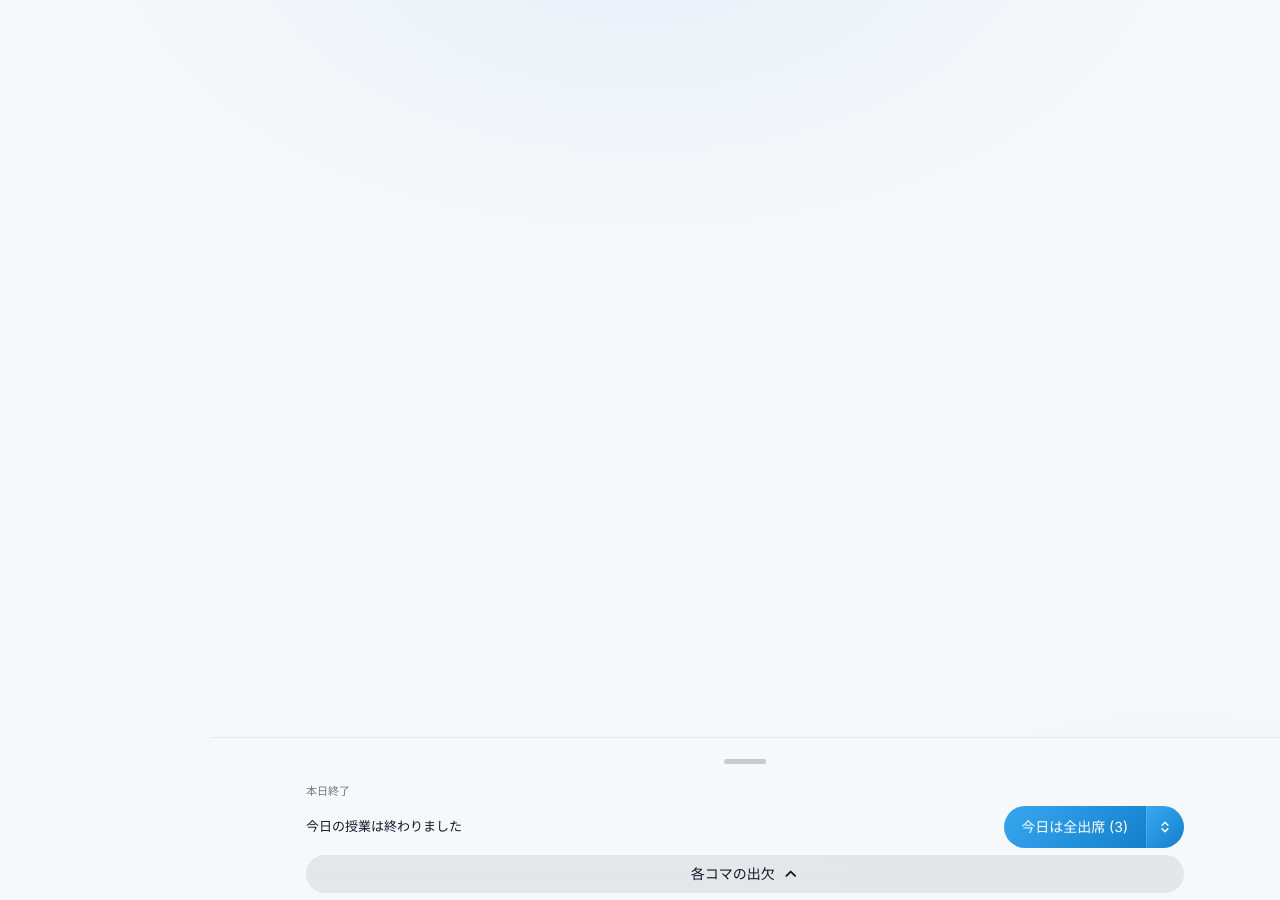
Test: MainAttendanceCTA bulk status menu › closes the menu on Escape
The width and height of the screenshot is (1280, 900).
Click the button named "一括記録のステータスを選ぶ": click(1165, 826) [1146,806,1184,848]
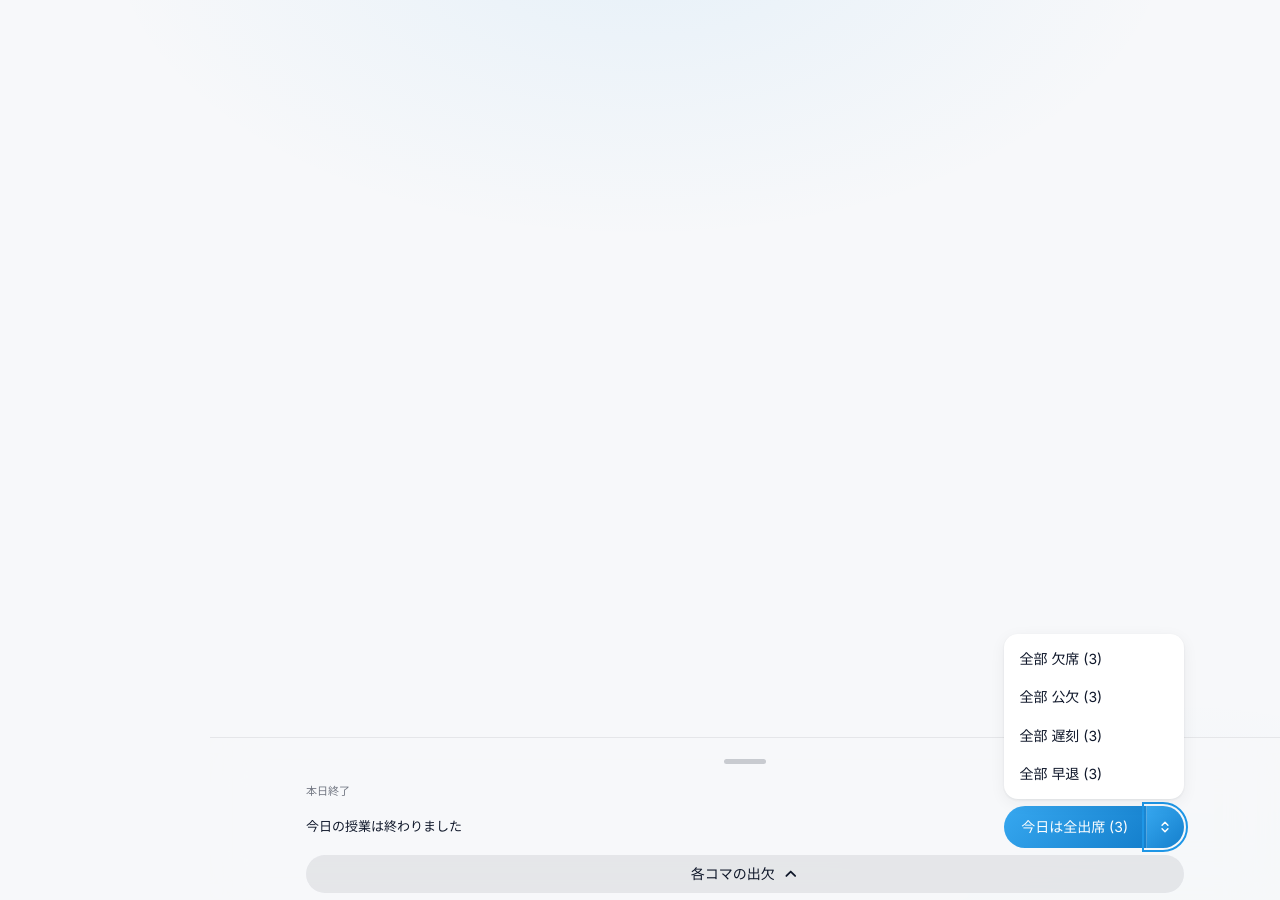
Press Escape
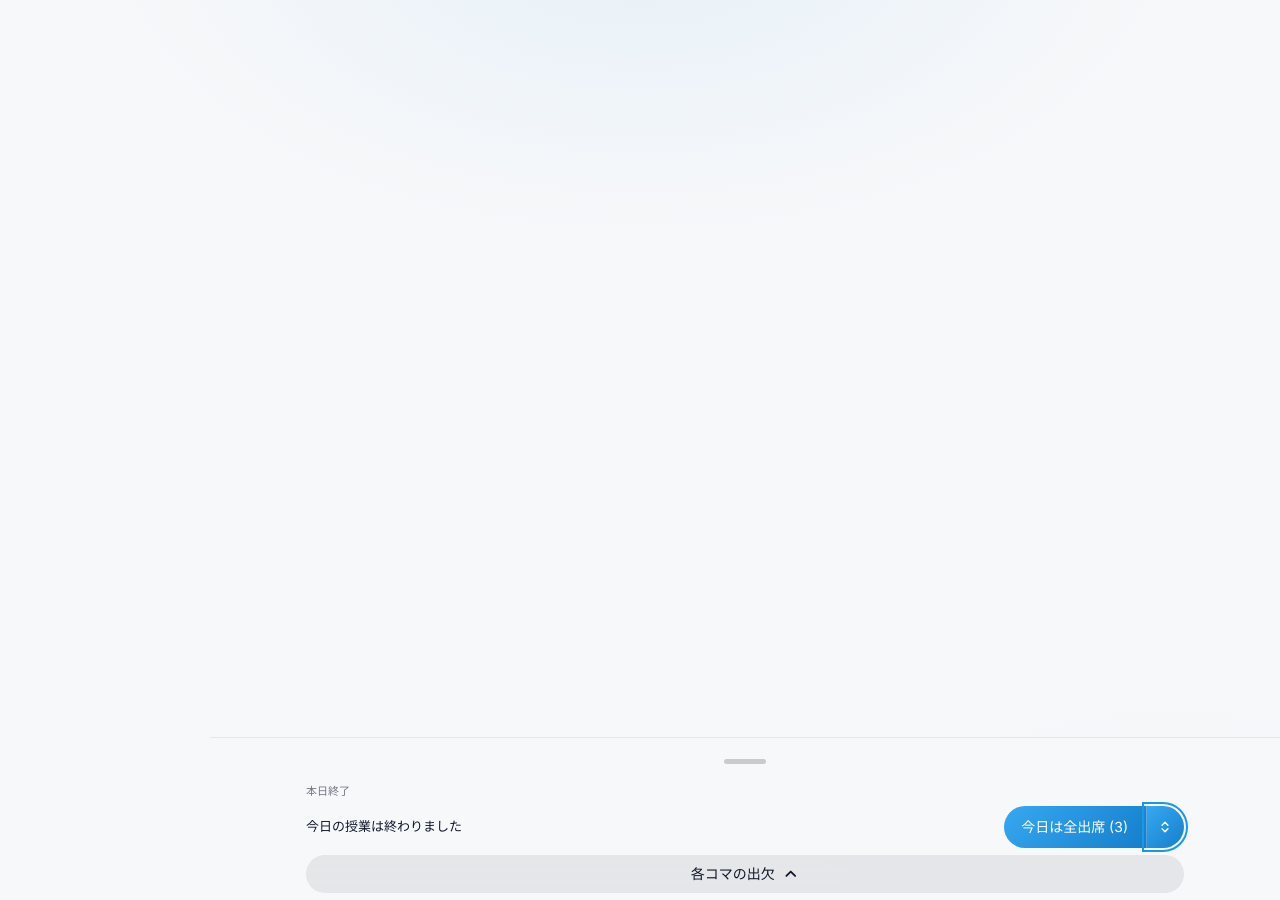
Expected: the menu is gone
